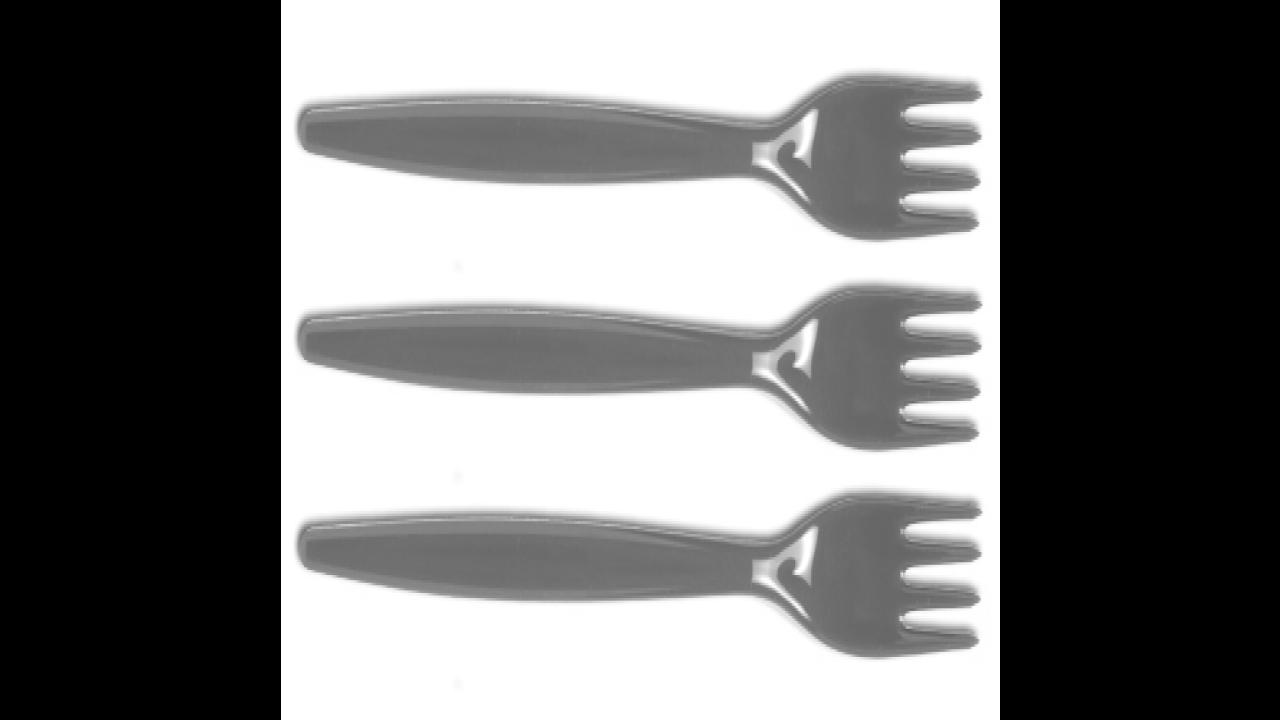fork: (298, 490, 982, 660), (298, 74, 982, 243), (298, 283, 982, 450)
